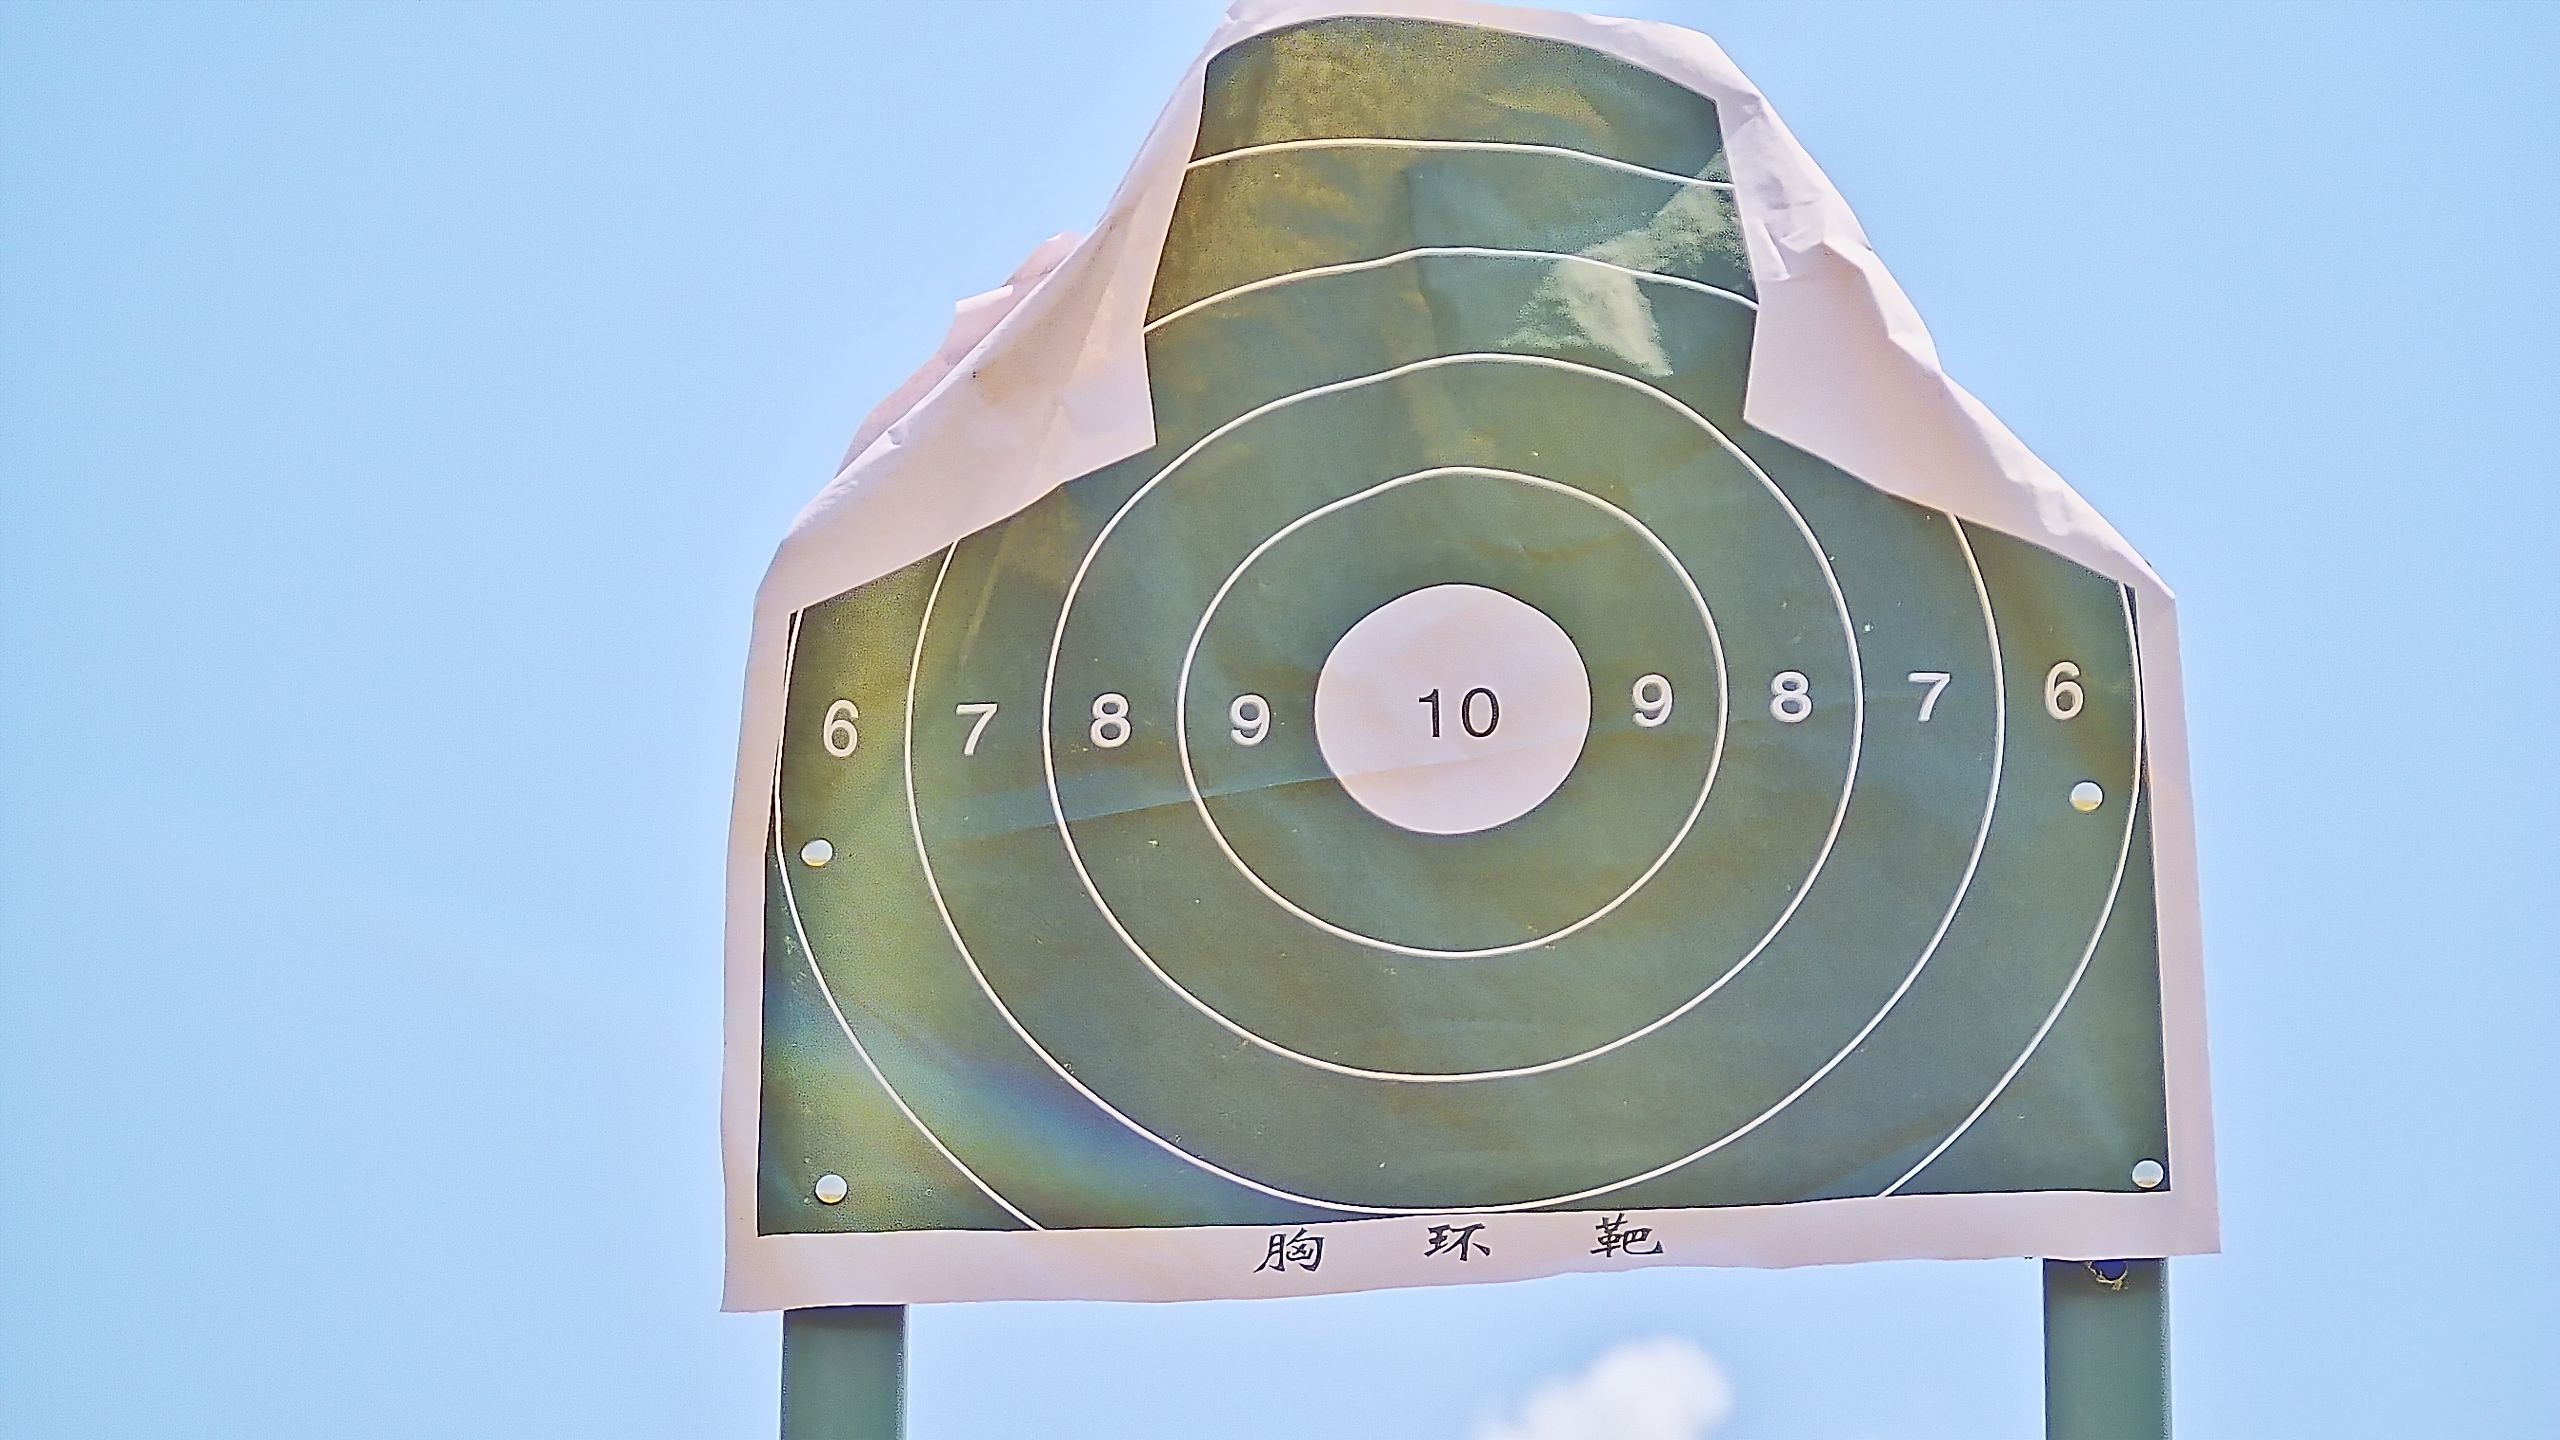kernel: (1449, 712, 1456, 723)
target: (754, 2, 2184, 1240)
ten: (1312, 577, 1593, 833)
